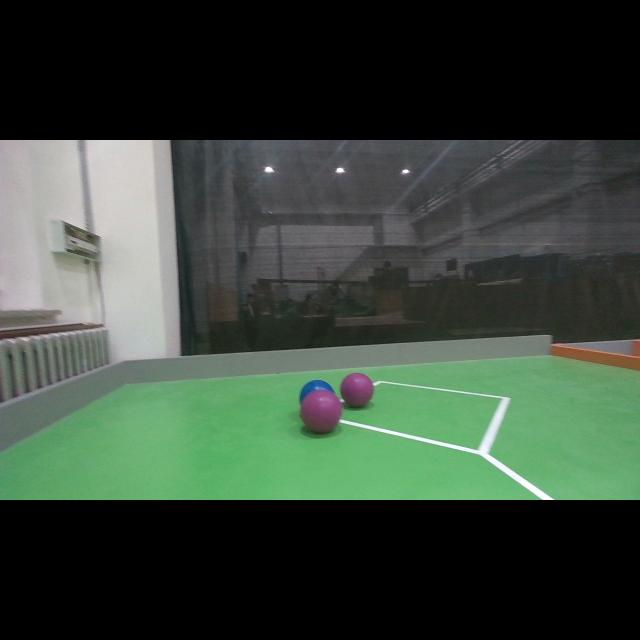B: (300, 380, 334, 406)
P: (301, 390, 341, 434), (341, 372, 374, 408)
